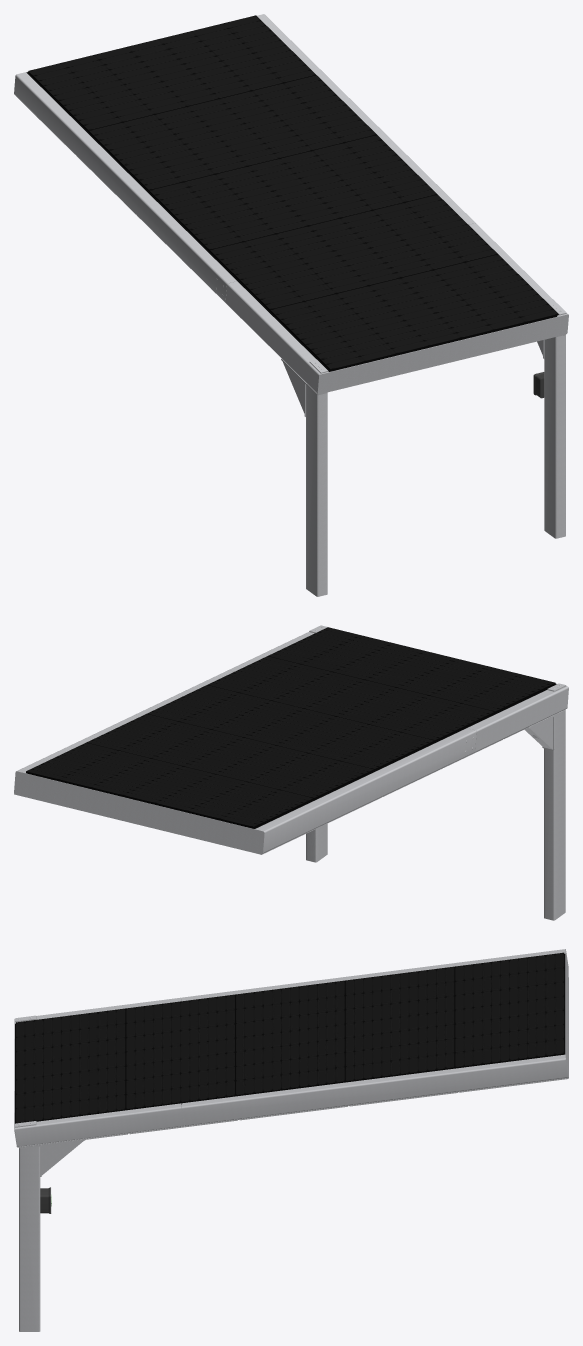
The model's file is Cap_1.glb.
3 renders of one model, top to bottom at view 1: azimuth 30°, elevation 25°; view 2: azimuth 150°, elevation 25°; view 3: azimuth 270°, elevation 25°, orthographic. The views are drawn at different scales.
Visible parts, largest first — view 1: Left.074, Right.001; view 2: Left.074, Right.001; view 3: Left.074, Right.001.
Boxes of the visible parts, x1=… form: Left.074: x1=14, y1=14, x2=568, y2=596; Right.001: x1=257, y1=14, x2=568, y2=538; Left.074: x1=14, y1=627, x2=568, y2=920; Right.001: x1=17, y1=625, x2=327, y2=862; Left.074: x1=14, y1=949, x2=568, y2=1148; Right.001: x1=14, y1=1054, x2=568, y2=1331.
Bounding box in the file's own units: 2.74 × 3.11 × 5.7.
Materials: 5 (5 with a texture image).
